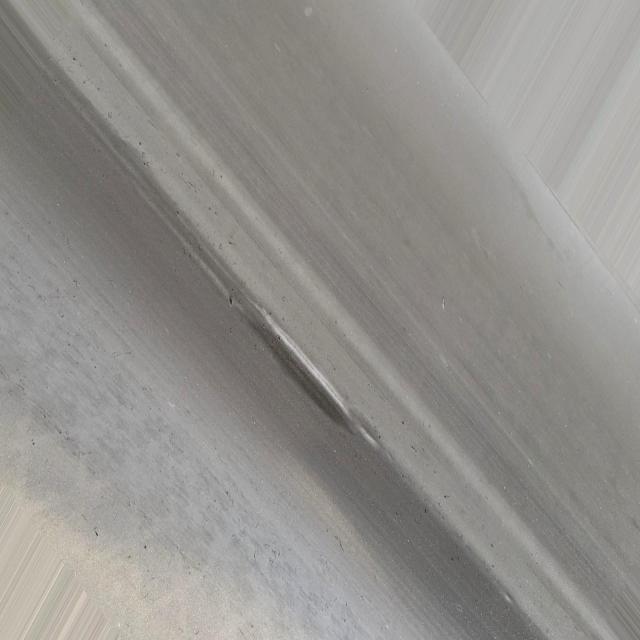Impact Damage: (242, 300, 390, 460)
